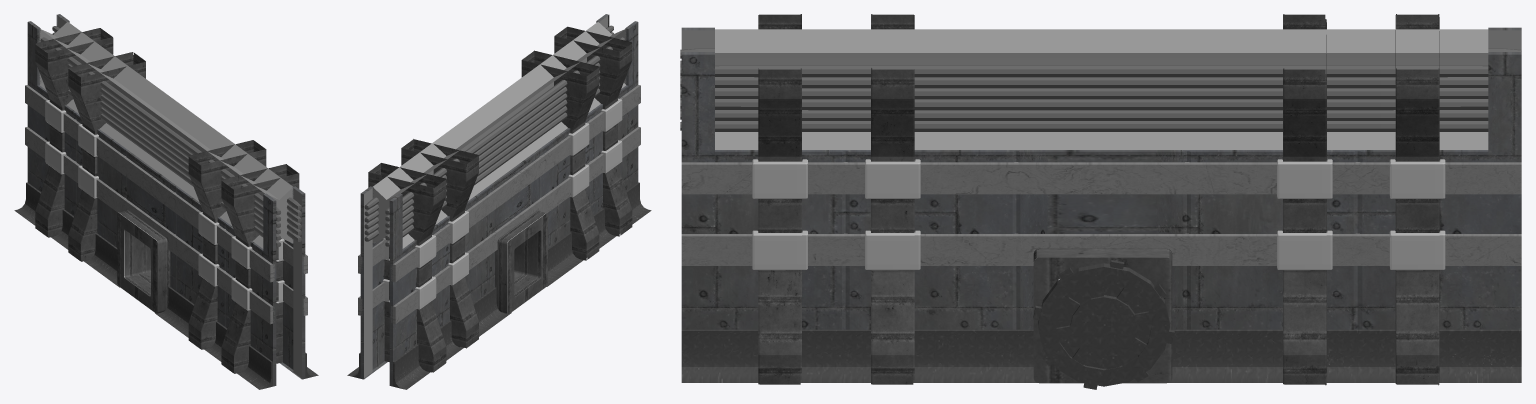
Rendered from VaultWall.fbx.
3 views of the same model, side by side, from view 1: azimuth 30°, elevation 25°; view 2: azimuth 150°, elevation 25°; view 3: azimuth 270°, elevation 25° (orthographic). The views are drawn at different scales.
Visible parts, largest first — view 1: wallVault; view 2: wallVault; view 3: wallVault, VaultDoor.
Part boxes in pixels (<box>): wallVault: <box>14,14,318,389</box>; wallVault: <box>347,14,651,389</box>; wallVault: <box>680,14,1521,385</box>; VaultDoor: <box>1033,260,1174,389</box>.
Size of the model in its own units: 578 by 1519 by 3606.
